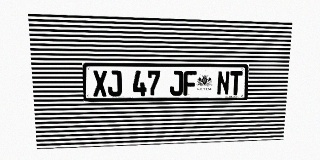4: (133, 70, 146, 96)
7: (147, 71, 160, 96)
F: (183, 71, 196, 96)
J: (107, 70, 122, 96), (170, 71, 183, 96)
N: (217, 71, 230, 95)
T: (229, 71, 242, 95)
X: (92, 70, 107, 97)
